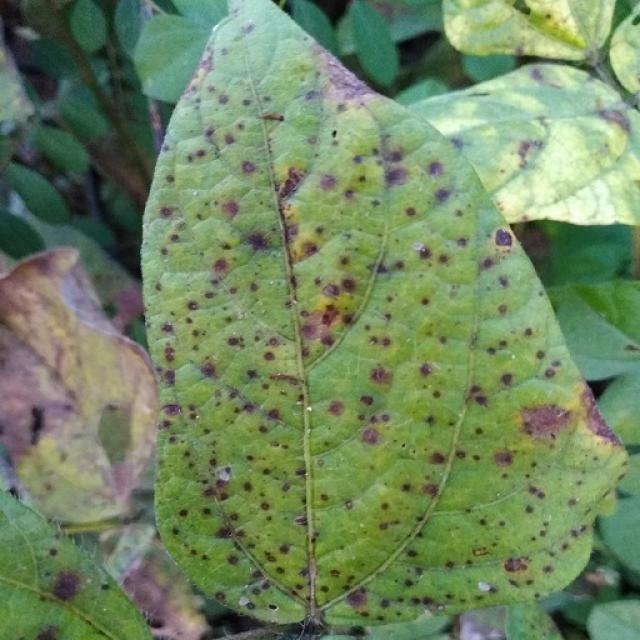Anthracnose: (481, 113, 637, 225), (0, 247, 110, 382), (435, 114, 546, 194), (300, 263, 372, 345), (310, 52, 386, 114), (515, 2, 587, 49), (95, 399, 137, 469), (580, 392, 620, 452), (513, 400, 565, 443), (359, 0, 423, 28), (300, 312, 338, 344), (50, 570, 83, 602), (596, 107, 631, 136), (254, 110, 287, 140), (292, 609, 329, 634), (302, 557, 320, 607), (277, 168, 304, 201), (28, 404, 45, 440), (246, 231, 273, 251), (585, 570, 613, 588), (268, 372, 299, 386), (385, 167, 409, 185), (503, 556, 527, 573), (370, 366, 390, 385), (494, 228, 513, 248), (346, 590, 366, 609), (37, 625, 60, 640), (361, 427, 380, 445), (220, 201, 239, 218), (493, 450, 513, 466), (319, 174, 337, 190), (160, 403, 181, 416), (212, 258, 228, 275), (200, 362, 217, 378), (327, 401, 345, 416), (427, 161, 443, 177), (323, 283, 340, 298), (434, 188, 451, 203), (415, 243, 430, 259), (528, 485, 545, 499), (163, 346, 176, 364), (419, 362, 434, 377), (259, 112, 284, 121), (217, 466, 231, 482), (158, 205, 175, 218), (7, 485, 20, 501), (500, 372, 514, 386), (430, 452, 445, 465), (241, 161, 256, 174), (234, 304, 245, 320), (472, 546, 489, 556), (226, 336, 241, 347), (477, 581, 492, 592), (360, 395, 374, 406), (293, 515, 307, 526), (624, 343, 639, 352), (263, 350, 275, 361), (497, 276, 508, 288), (239, 596, 251, 607), (405, 206, 416, 217), (187, 301, 198, 311), (568, 497, 579, 506), (344, 500, 353, 510), (267, 604, 278, 611), (101, 583, 110, 590), (331, 129, 338, 138), (292, 297, 298, 304), (306, 405, 312, 412)
Blackgram: (142, 0, 624, 622)
